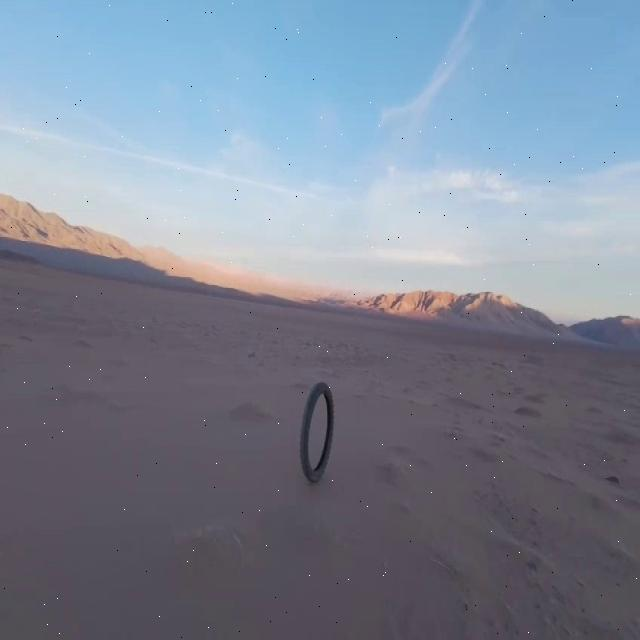Tire: (300, 382, 334, 482)
